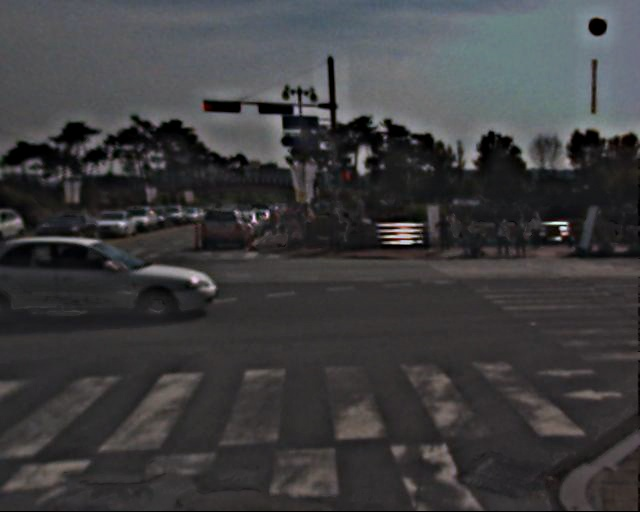person: (273, 204, 315, 247), (512, 213, 532, 262), (328, 205, 348, 253), (467, 210, 485, 255), (496, 217, 514, 262), (533, 211, 550, 252), (439, 209, 456, 250)
